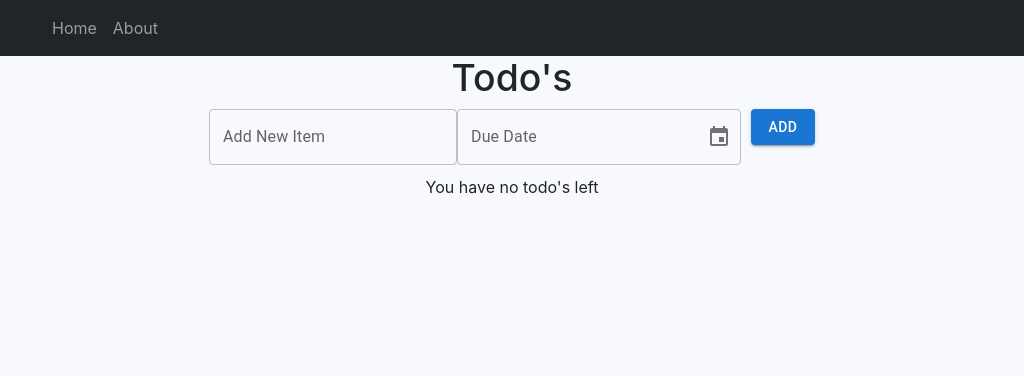
test that App component can be deleted thru checkbox
In the field labelled "Add New Item": (333, 137) [209,109,457,165], type "History Test"
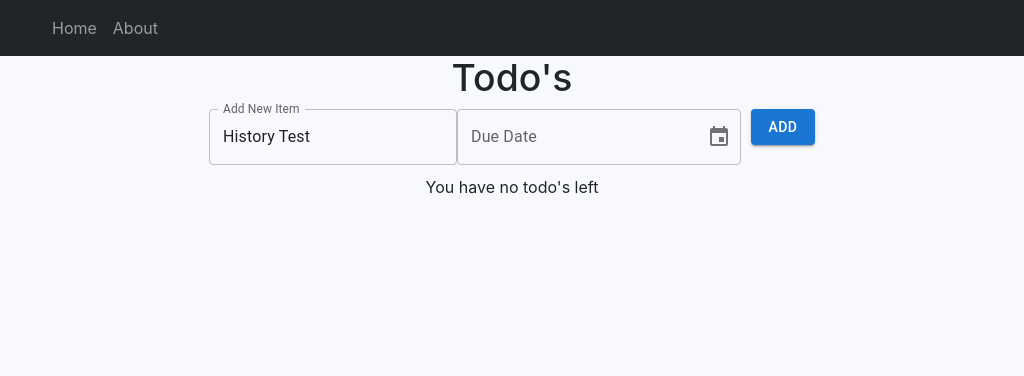
In the field with placeholder "mm/dd/yyyy": (574, 137) [457,109,691,165], type "11/30/2023"
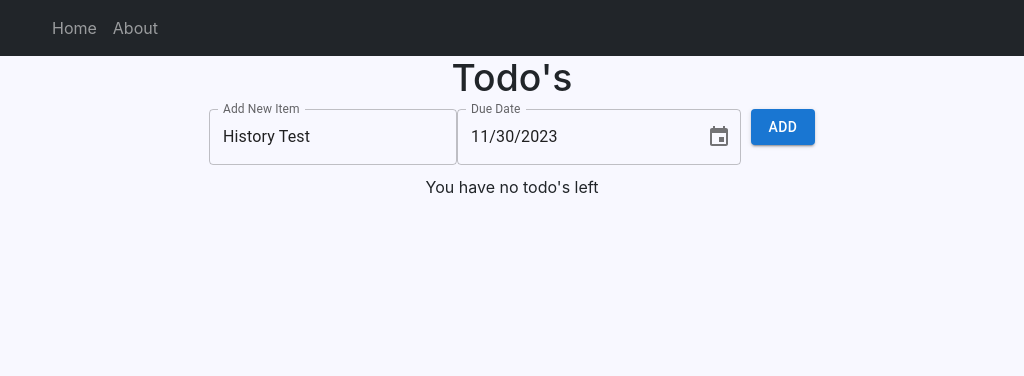
Click the button "Add": (783, 127) [751,109,815,145]
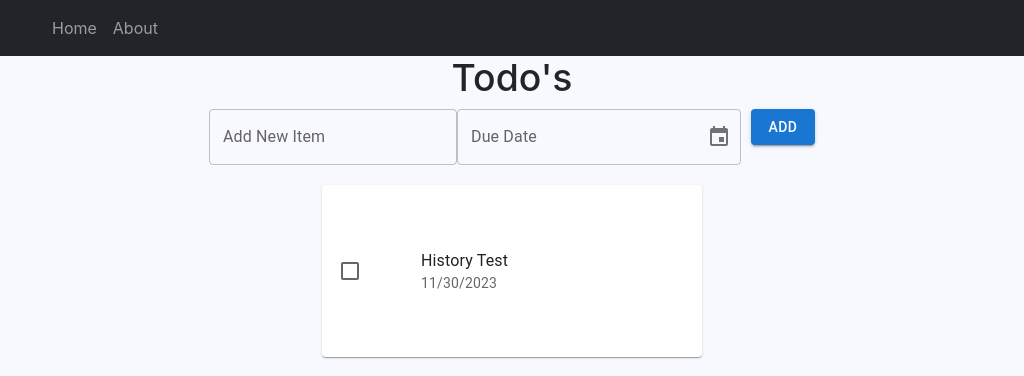
Expected: the text "History Test" is shown, [421,251,508,270]
Click the element with test id "checkBox": (350, 271) [338,259,362,283]
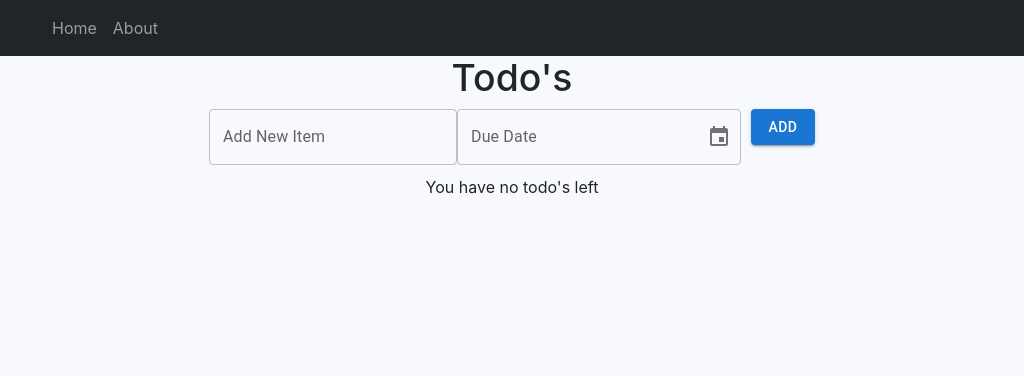
Expected: the text "You have no todo's left" is shown, [426,177,598,197]
